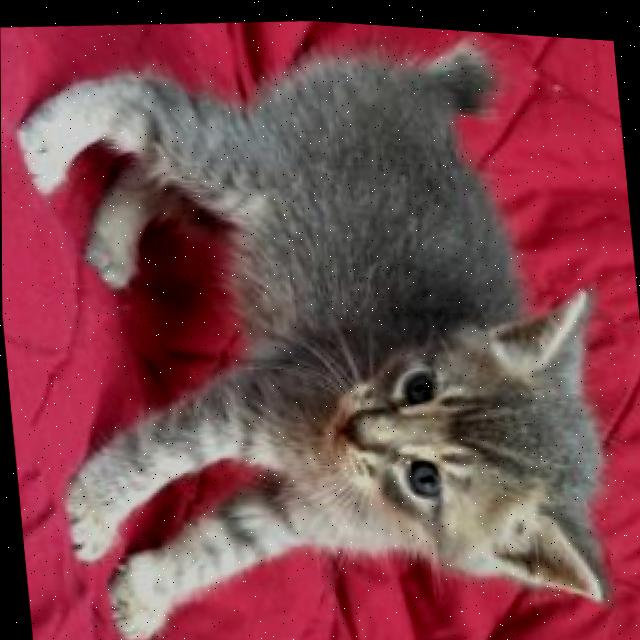American Bobtail: (0, 4, 624, 640)
